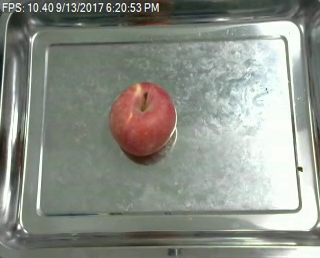Apple: (105, 77, 179, 159)
